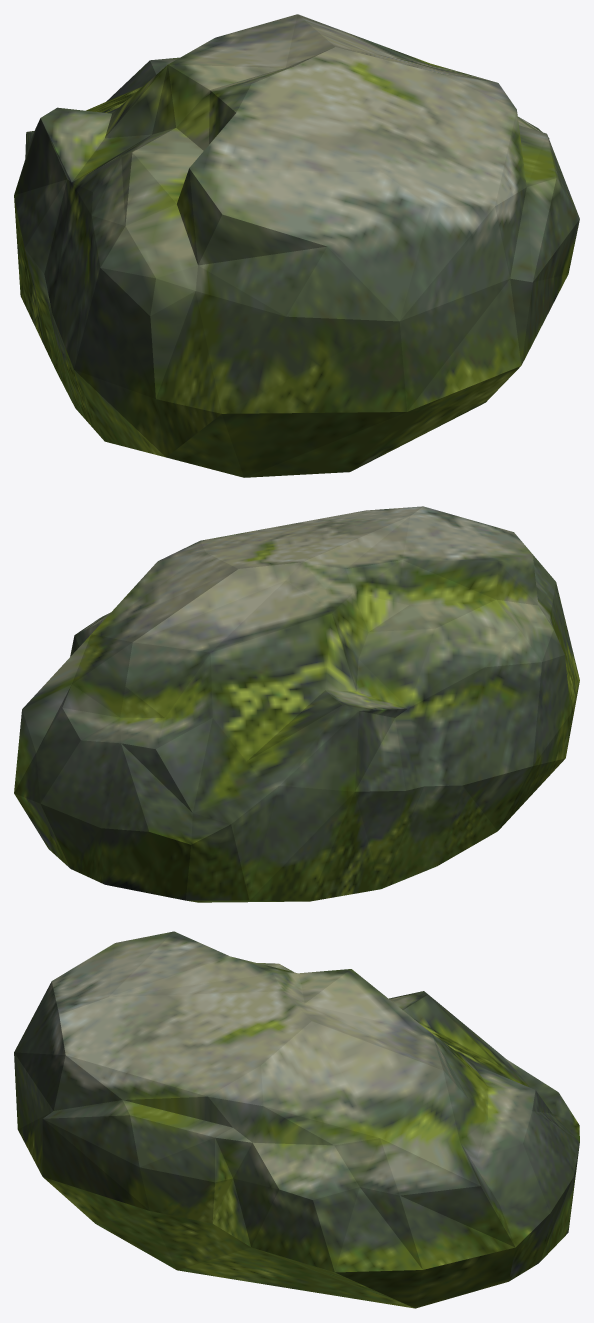
File: 4002_Item_shitou_4.FBX
3 views of the same model, one above another, from view 1: azimuth 30°, elevation 25°; view 2: azimuth 150°, elevation 25°; view 3: azimuth 270°, elevation 25° (orthographic). The views are drawn at different scales.
Visible parts, largest first — view 1: 4002_Item_shitou_4; view 2: 4002_Item_shitou_4; view 3: 4002_Item_shitou_4.
Part boxes in pixels (left/top/right/bottom): 4002_Item_shitou_4: left=14, top=14, right=579, bottom=477; 4002_Item_shitou_4: left=14, top=506, right=579, bottom=902; 4002_Item_shitou_4: left=14, top=931, right=579, bottom=1308.
Size of the model in its own units: 113 by 73.45 by 137.
